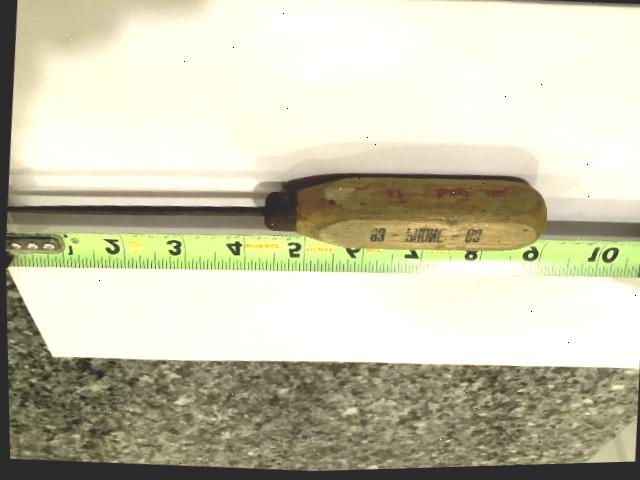ice pick: (3, 145, 546, 271)
